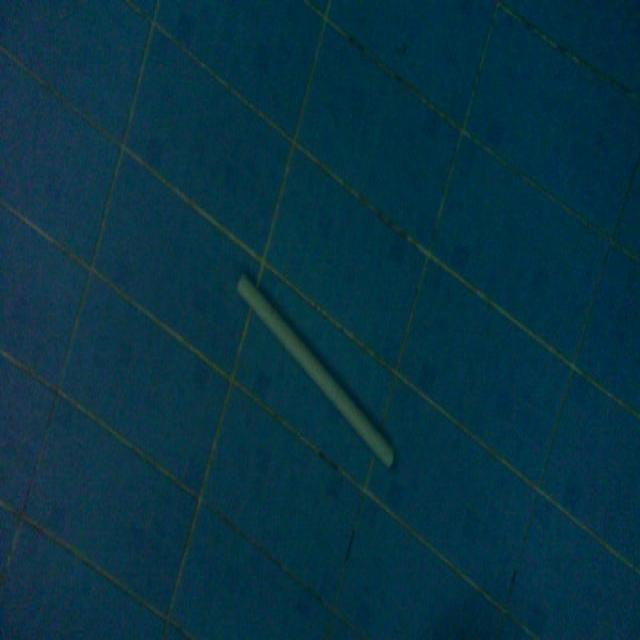Cube: (234, 267, 396, 471)
